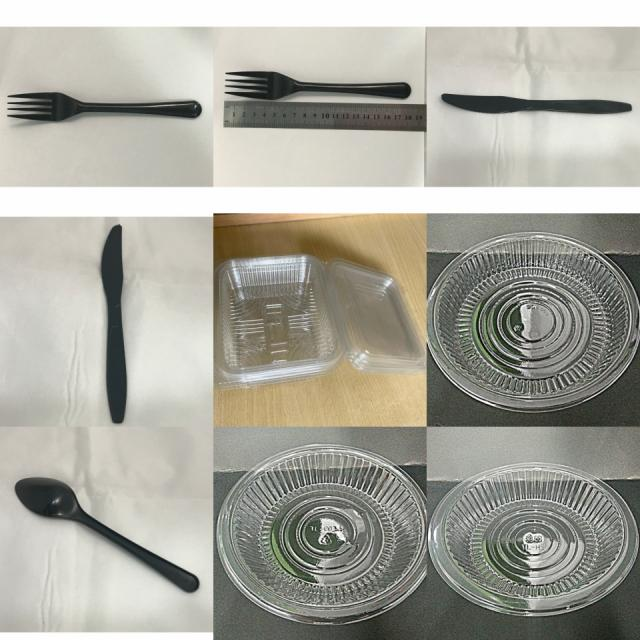Single-Use-Plastic: (216, 445, 425, 624), (430, 234, 640, 409), (429, 464, 639, 616), (215, 255, 425, 389), (16, 478, 199, 592), (8, 92, 201, 121), (226, 71, 411, 100), (101, 225, 128, 423), (441, 94, 631, 114)
